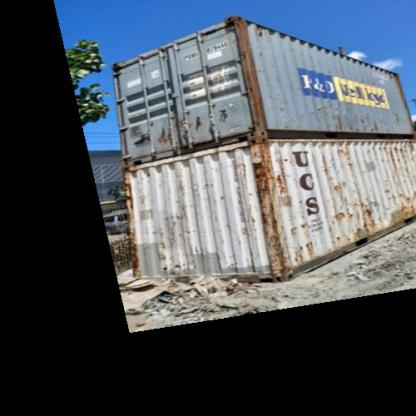Damage: (252, 148, 311, 272), (150, 177, 192, 274), (226, 160, 254, 244), (332, 106, 387, 135), (367, 141, 413, 172), (380, 182, 412, 224), (268, 88, 294, 134), (318, 158, 346, 198), (308, 96, 332, 116), (359, 206, 377, 232), (328, 206, 356, 222), (338, 144, 352, 158), (391, 109, 401, 125), (332, 230, 342, 244), (203, 178, 214, 188), (254, 46, 264, 57)
